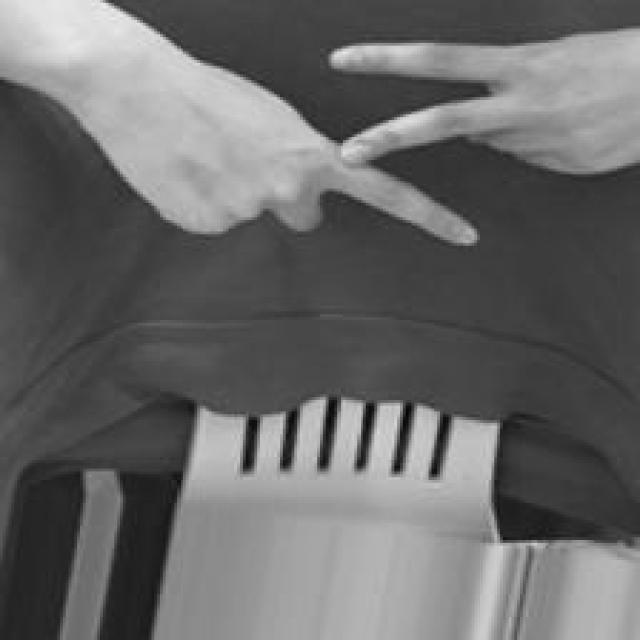Z: (71, 0, 640, 251)
